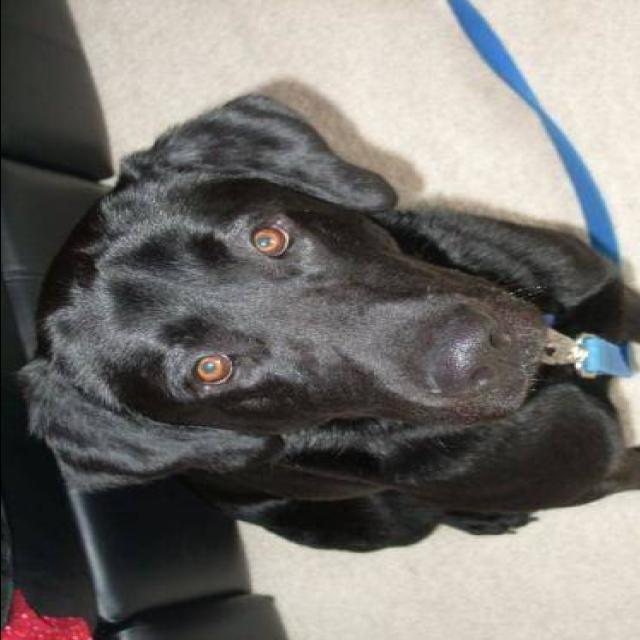dog: (13, 98, 640, 533)
